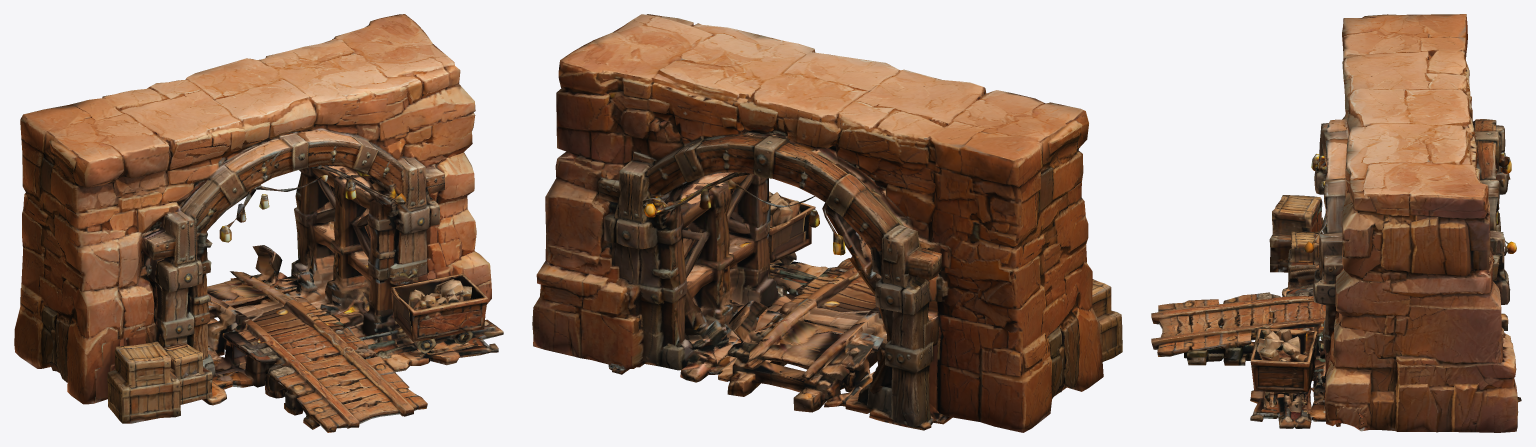
File: EX_Exc_CaveEntrance.fbx
3 renders of one model, left to right at view 1: azimuth 30°, elevation 25°; view 2: azimuth 150°, elevation 25°; view 3: azimuth 270°, elevation 25°, orthographic. The views are drawn at different scales.
Parts seen in each view (by area): view 1: texture_mapping; view 2: texture_mapping; view 3: texture_mapping.
Boxes of the visible parts, <box> form: texture_mapping: <box>14,14,503,432</box>; texture_mapping: <box>532,14,1122,432</box>; texture_mapping: <box>1151,14,1521,432</box>.
Bounding box in the file's own units: 0.9999 × 0.818 × 0.5828.
Materials: 1 (1 with a texture image).
